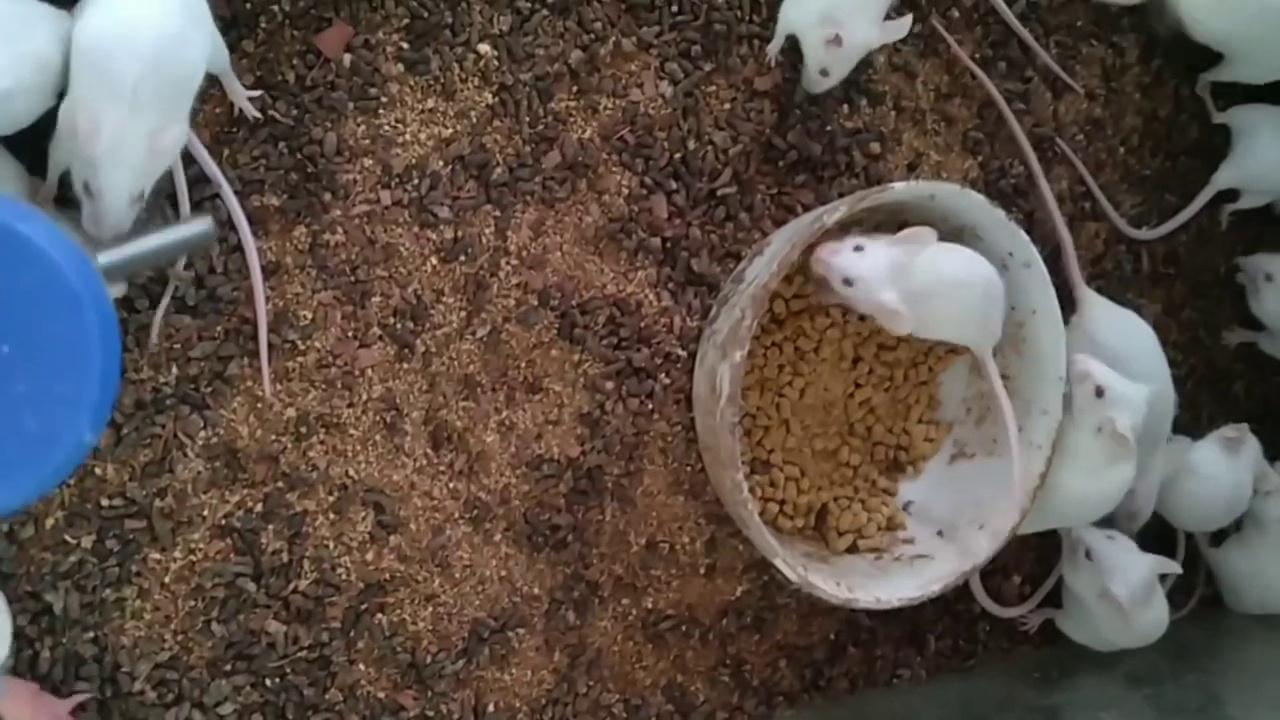rat: (812, 226, 1020, 497), (34, 0, 266, 239), (1015, 353, 1148, 533), (1019, 524, 1185, 649), (766, 0, 912, 93), (1154, 423, 1277, 532), (1223, 253, 1280, 359)
